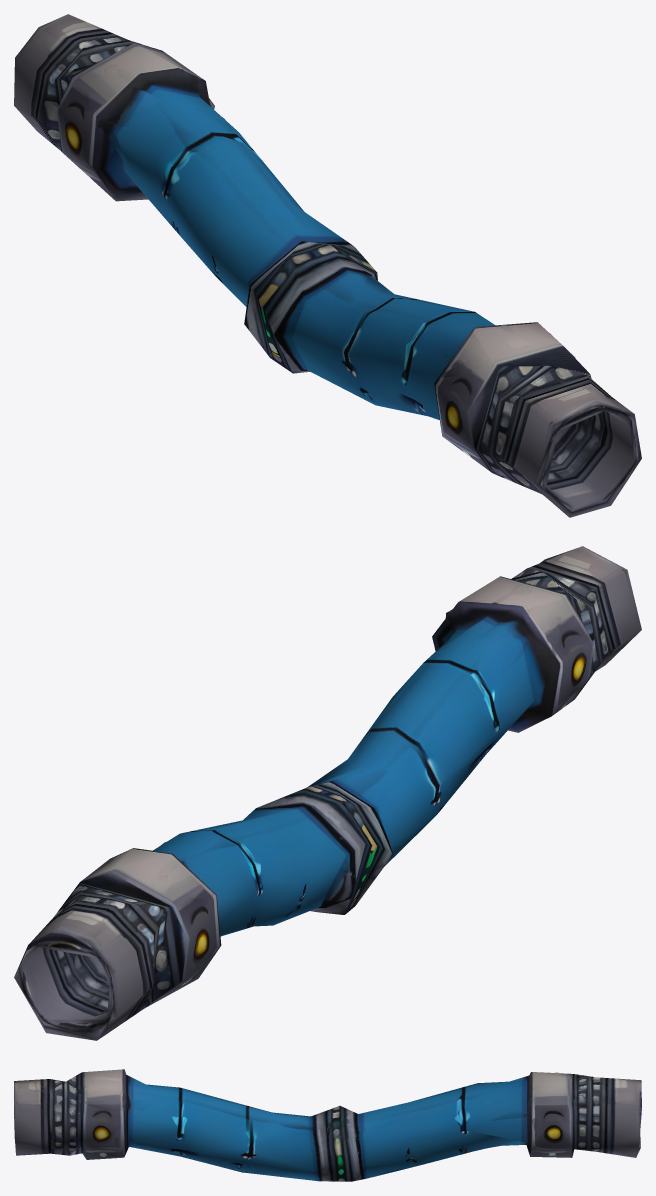
File: futuristic+pipe+3d+model.obj
3 renders of one model, top to bottom at view 1: azimuth 30°, elevation 25°; view 2: azimuth 150°, elevation 25°; view 3: azimuth 270°, elevation 25°, orthographic. The views are drawn at different scales.
Visible parts, largest first — view 1: tripo_node_168847ce-930b-4d45-8939-d7066b4811af; view 2: tripo_node_168847ce-930b-4d45-8939-d7066b4811af; view 3: tripo_node_168847ce-930b-4d45-8939-d7066b4811af.
Boxes of the visible parts, x1,y1,x2,y2 form: tripo_node_168847ce-930b-4d45-8939-d7066b4811af: (14, 14, 641, 517); tripo_node_168847ce-930b-4d45-8939-d7066b4811af: (14, 546, 641, 1040); tripo_node_168847ce-930b-4d45-8939-d7066b4811af: (14, 1069, 641, 1181).
Bounding box in the file's own units: 0.1424 × 0.186 × 0.998.
Materials: 1 (1 with a texture image).
